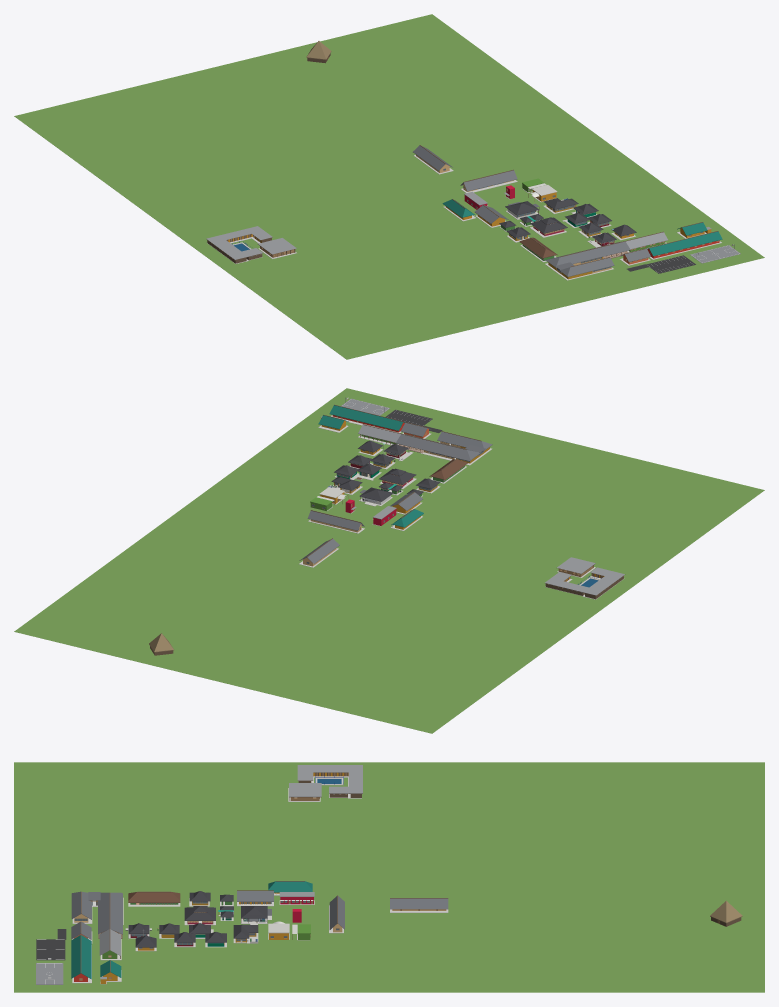
File: recorrido.glb
3 renders of one model, top to bottom at view 1: azimuth 30°, elevation 25°; view 2: azimuth 150°, elevation 25°; view 3: azimuth 270°, elevation 25°, orthographic. The views are drawn at different scales.
Parts seen in each view (by area): view 1: Recorrido; view 2: Recorrido; view 3: Recorrido.
Part boxes in pixels (x1=…): Recorrido: x1=14, y1=14, x2=764, y2=359; Recorrido: x1=14, y1=388, x2=764, y2=733; Recorrido: x1=14, y1=762, x2=764, y2=992.
Bounding box in the file's own units: 298 × 12.24 × 411.
